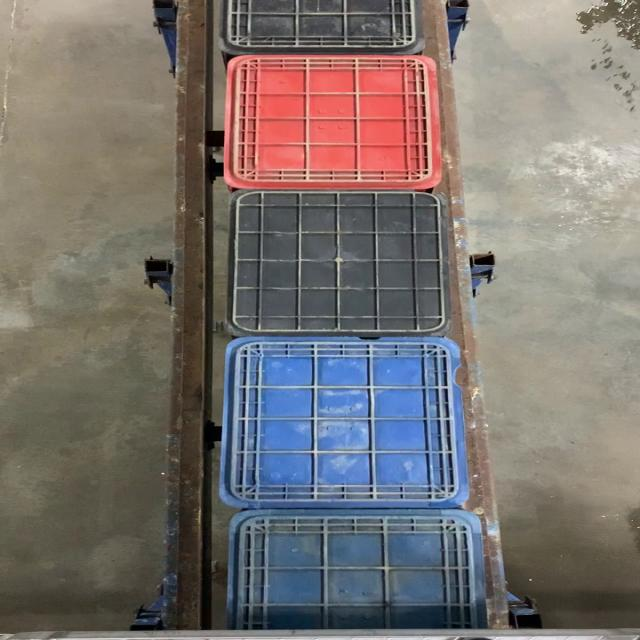Box: (225, 337, 468, 508), (230, 191, 448, 336), (224, 55, 438, 189)
